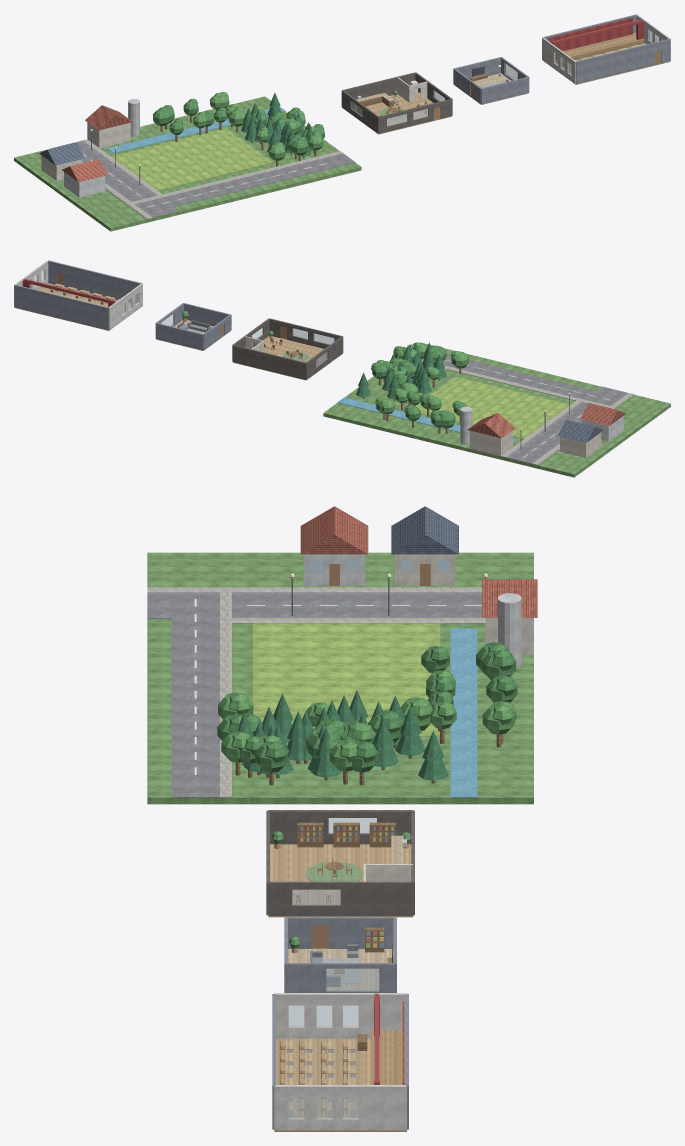
File: all_scenes2.glb
3 views of the same model, one above another, from view 1: azimuth 30°, elevation 25°; view 2: azimuth 150°, elevation 25°; view 3: azimuth 270°, elevation 25° (orthographic). The views are drawn at different scales.
Visible parts, largest first — view 1: lot, hall, cafe, living; view 2: lot, hall, cafe, living; view 3: lot, hall, cafe, living.
Boxes of the visible parts, bbox=[...] form: lot: bbox=[14, 92, 361, 231]; hall: bbox=[542, 14, 670, 84]; cafe: bbox=[341, 72, 452, 134]; living: bbox=[453, 57, 529, 104]; lot: bbox=[323, 342, 670, 477]; hall: bbox=[14, 260, 142, 330]; cafe: bbox=[232, 318, 343, 380]; living: bbox=[155, 303, 231, 350]; lot: bbox=[147, 506, 537, 804]; hall: bbox=[272, 993, 408, 1131]; cafe: bbox=[266, 810, 414, 917]; living: bbox=[284, 917, 396, 992].
Size of the model in its own units: 113 by 6.6 by 32.3.
46 materials, 32 textured.
